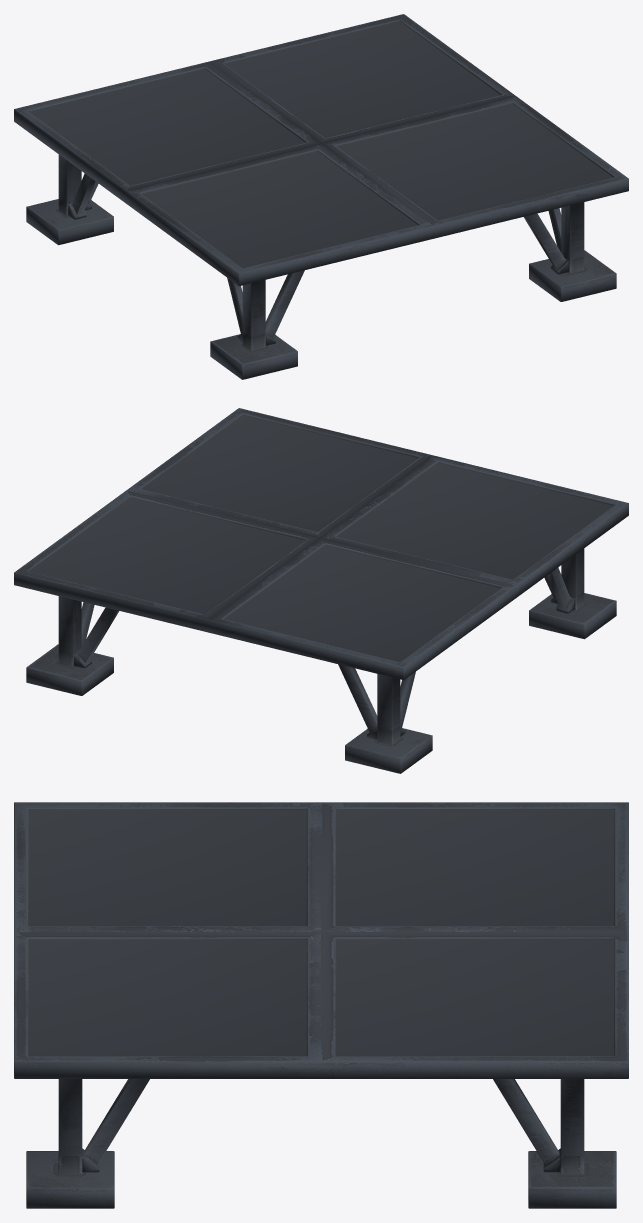
File: platform_02.gltf
3 renders of one model, top to bottom at view 1: azimuth 30°, elevation 25°; view 2: azimuth 150°, elevation 25°; view 3: azimuth 270°, elevation 25°, orthographic. The views are drawn at different scales.
Visible parts, largest first — view 1: platform_02; view 2: platform_02; view 3: platform_02.
Boxes of the visible parts, left/top/right/bottom form: platform_02: left=14, top=14, right=628, bottom=379; platform_02: left=14, top=408, right=628, bottom=773; platform_02: left=14, top=802, right=628, bottom=1208.
Bounding box in the file's own units: 3.67 × 1 × 3.67.
1 material, 1 textured.
